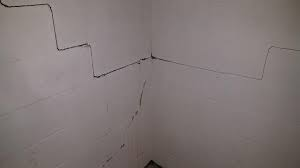stairstep_crack: (0, 0, 149, 81), (150, 44, 299, 85)
